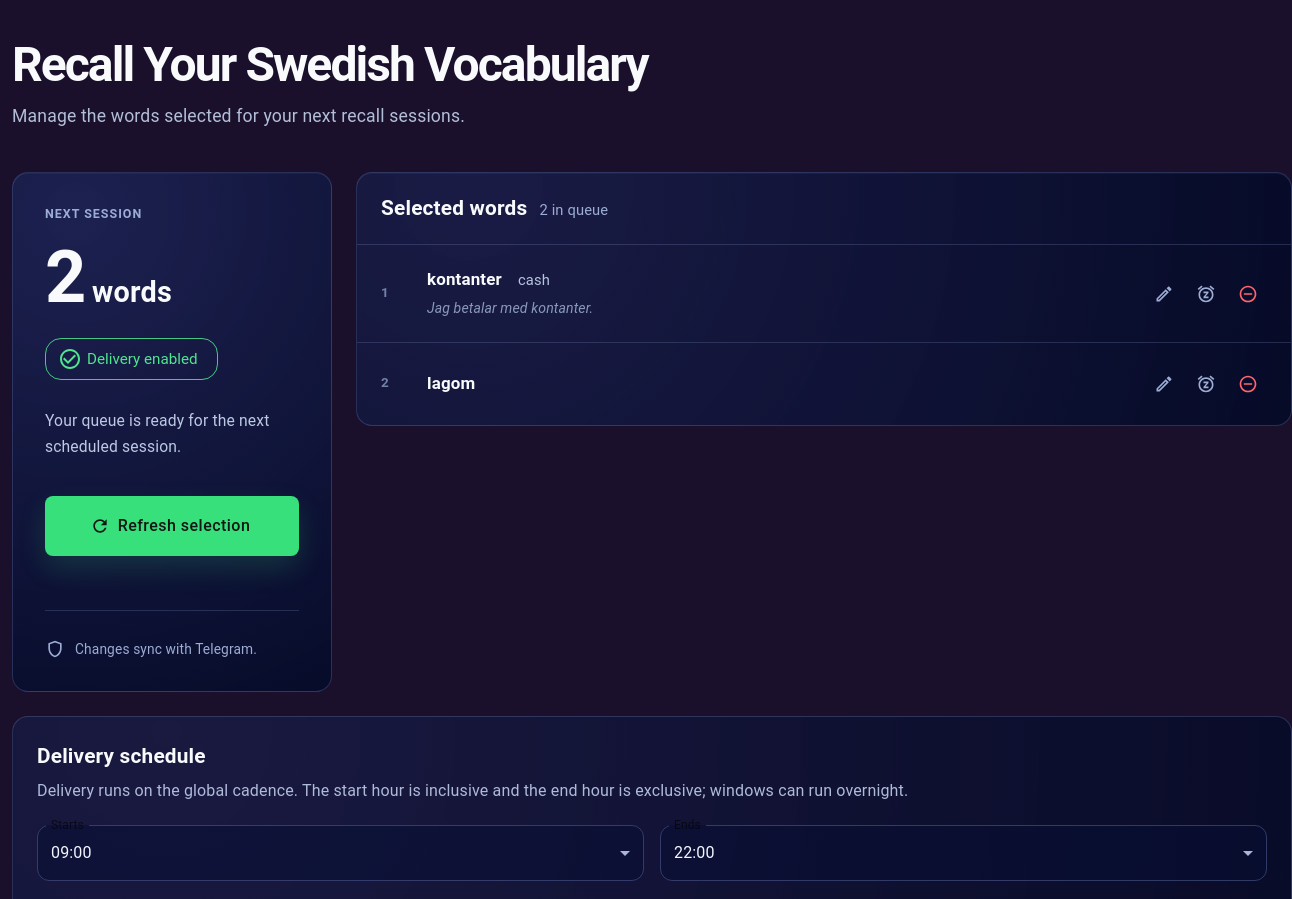
Test: RecallView › shows an error and keeps the modal closed when the item lookup fails
Click the button named "Edit kontanter" at point(1164, 294), box [1145,274,1183,312]
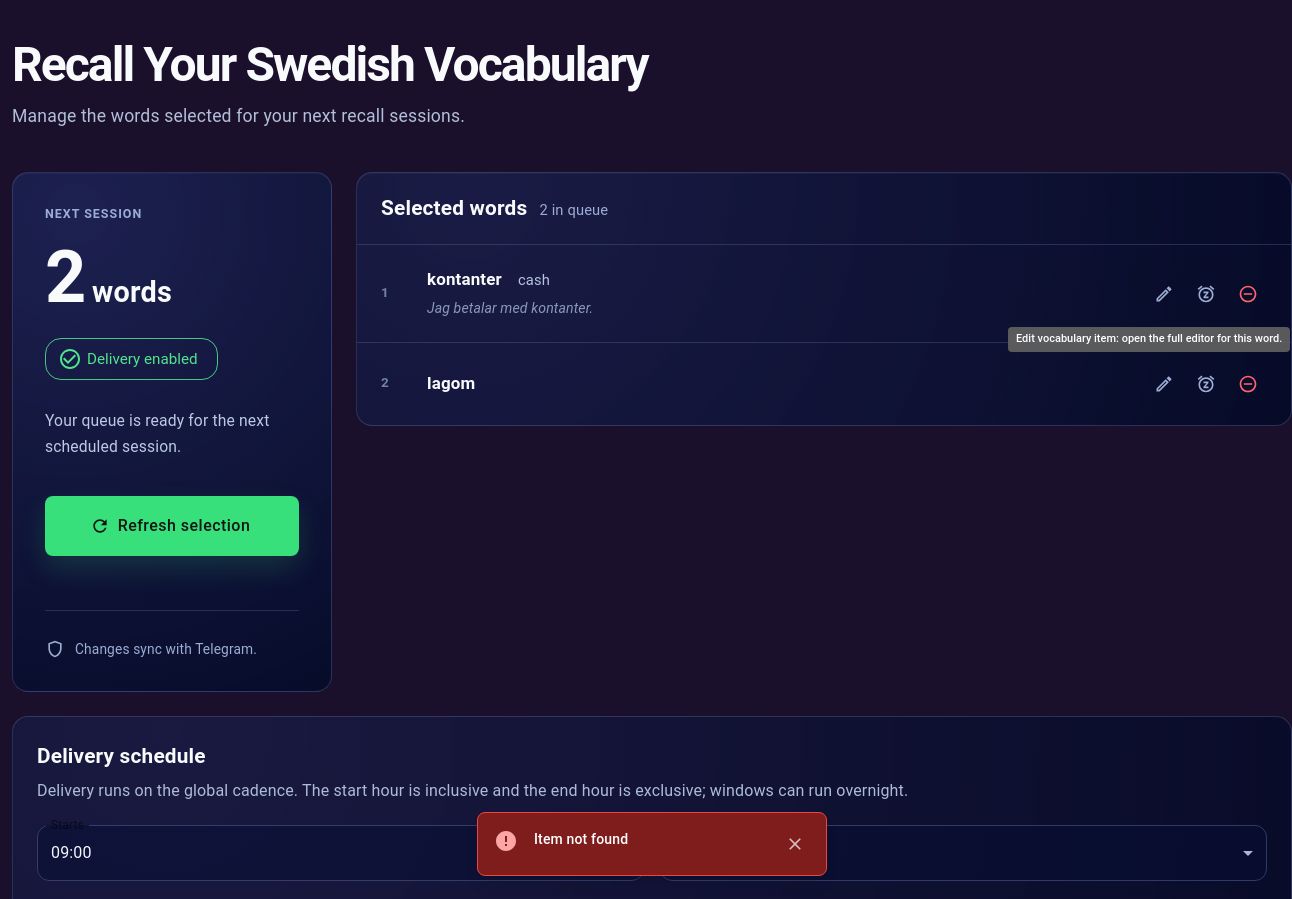
Expected: the text "Item not found" is shown, [534,831,628,847]
